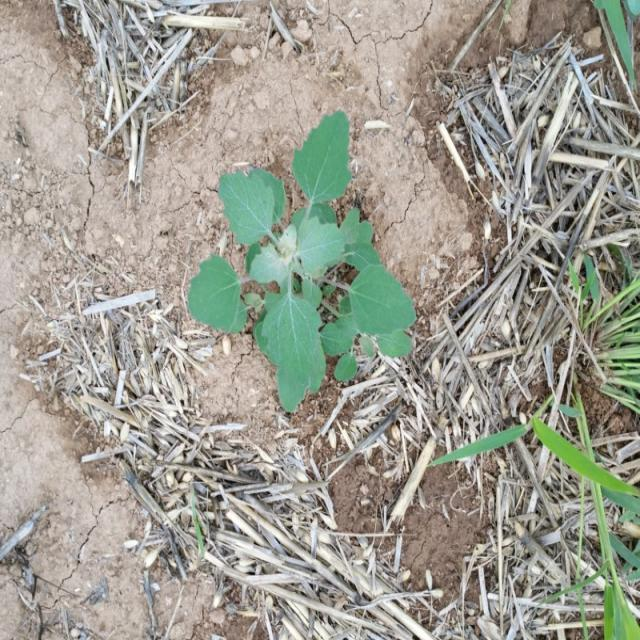goosefoots: (180, 114, 418, 417)
